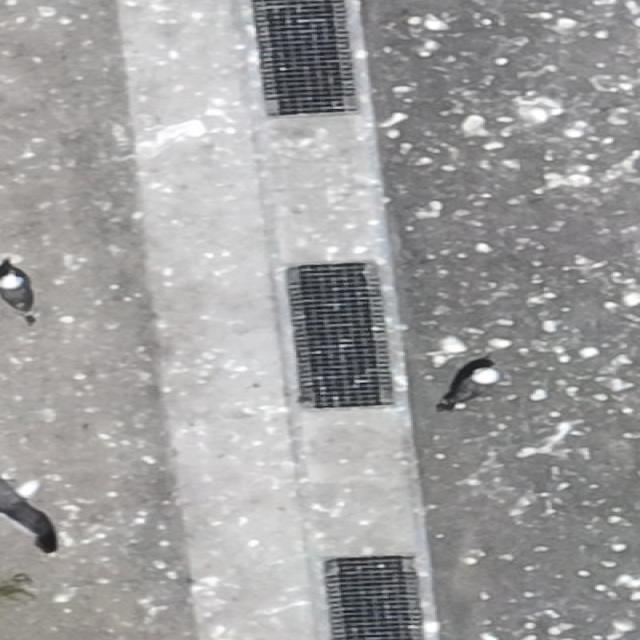F: (0, 477, 66, 548)
umineko: (454, 366, 498, 403), (4, 274, 30, 313)
